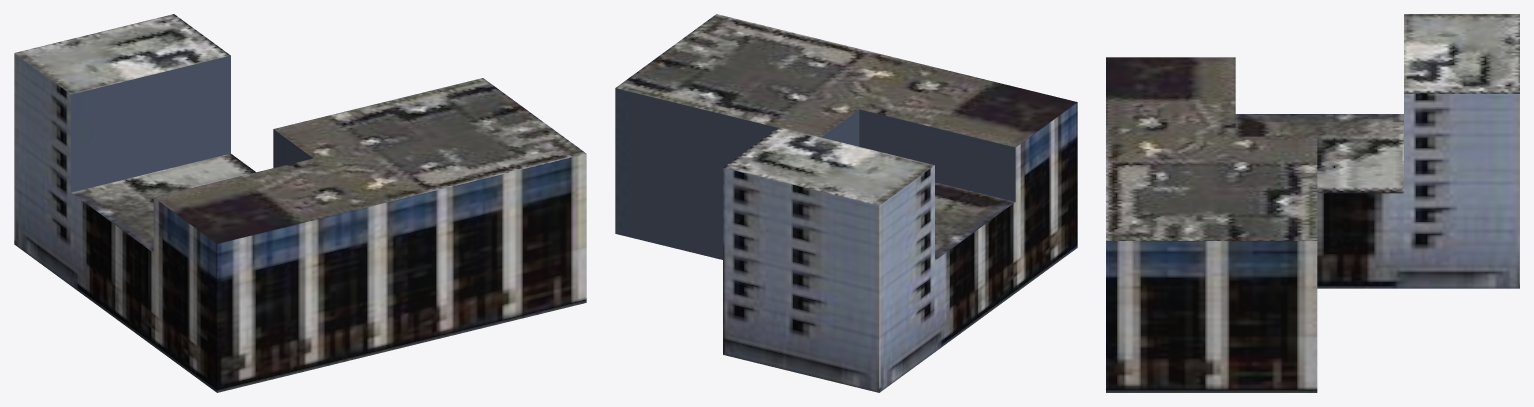
3 renders of one model, left to right at view 1: azimuth 30°, elevation 25°; view 2: azimuth 150°, elevation 25°; view 3: azimuth 270°, elevation 25°, orthographic. The views are drawn at different scales.
Parts seen in each view (by area): view 1: b98; view 2: b98; view 3: b98.
Part boxes in pixels (x1=…): b98: x1=14, y1=14, x2=586, y2=392; b98: x1=615, y1=14, x2=1077, y2=392; b98: x1=1106, y1=14, x2=1519, y2=392.
Size of the model in its own units: 53.28 by 26.37 by 50.67.
1 material, 1 textured.
